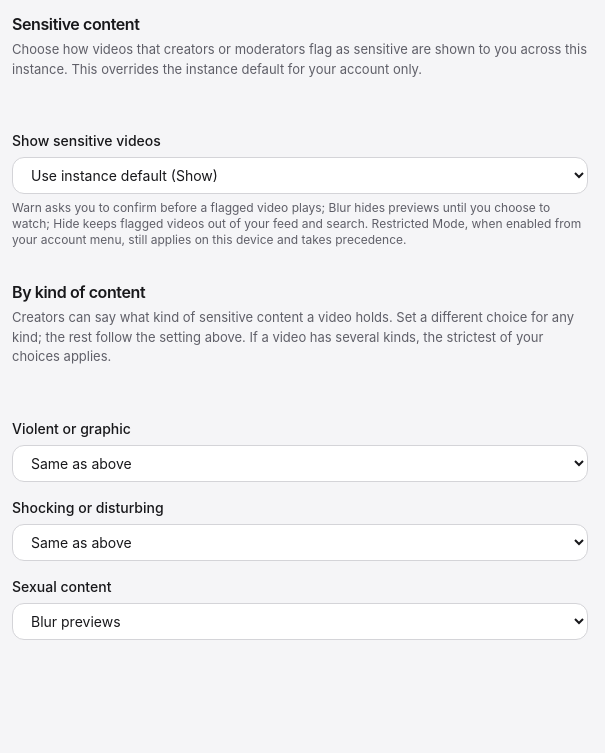
ContentSettingsView per-kind policies › keeps the old value and says so when the save fails
Select "Hide from browse" in the dropdown labelled "Sexual content" at {"x": 300, "y": 621}, box top-left (12, 602), bottom-right (588, 640)
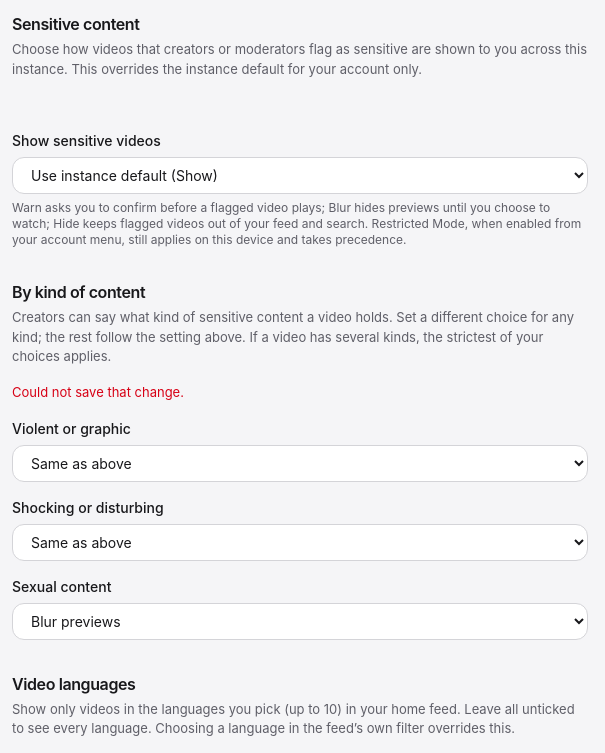
Now the text "Could not save that change." is shown, box top-left (12, 384), bottom-right (184, 400)
